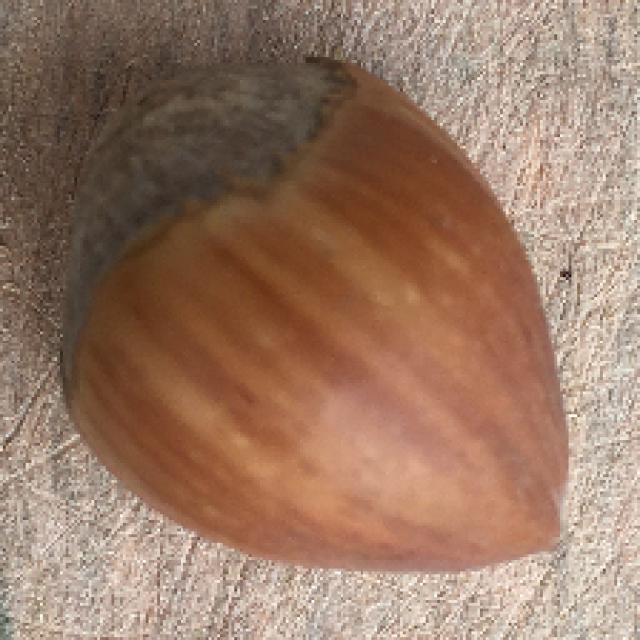qualityHazelnut: (48, 57, 590, 584)
